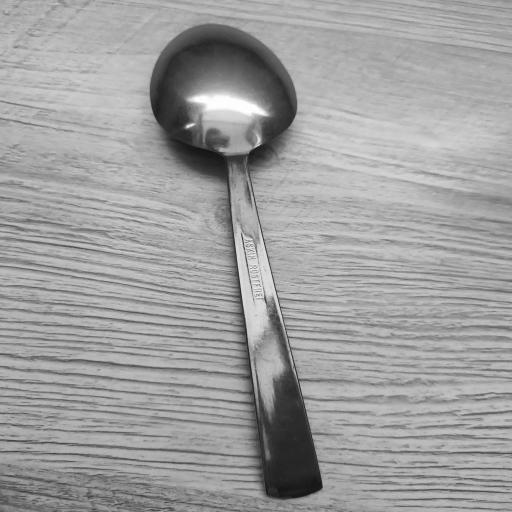spoon: (144, 20, 328, 498)
